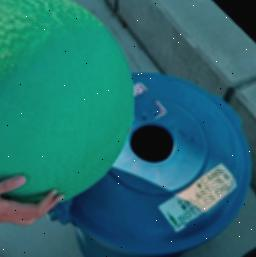algae: (0, 0, 129, 203)
